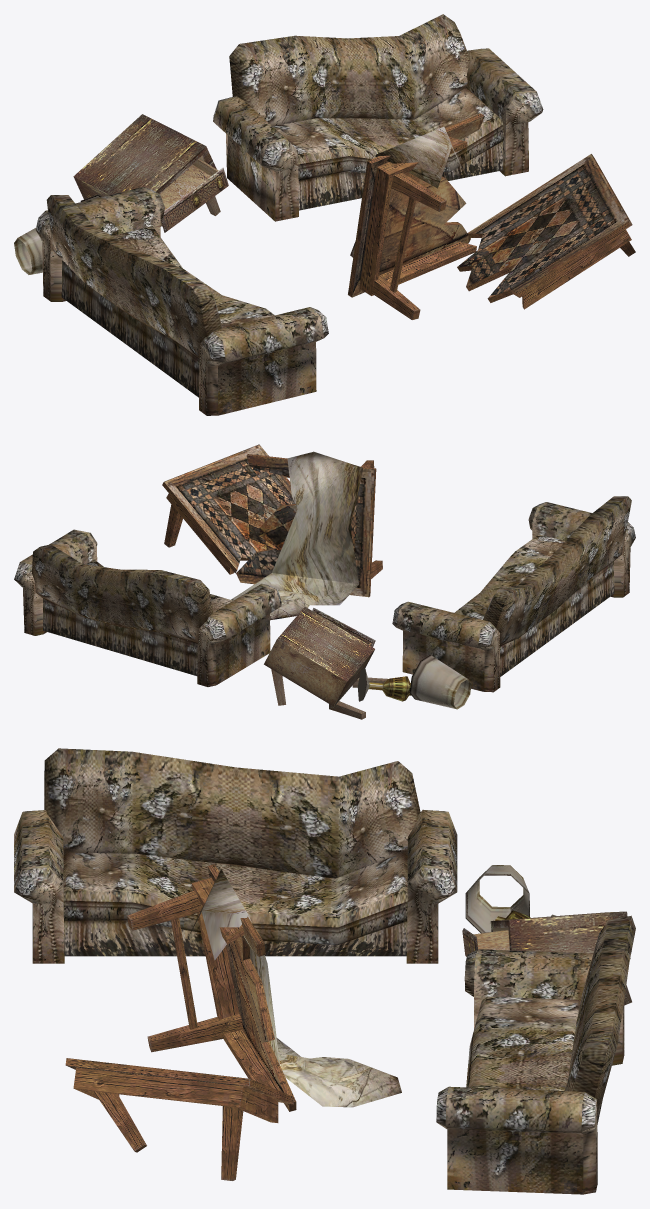
Rendered from rmlivina.glb.
3 views of the same model, one above another, from view 1: azimuth 30°, elevation 25°; view 2: azimuth 150°, elevation 25°; view 3: azimuth 270°, elevation 25° (orthographic). The views are drawn at different scales.
Visible parts, largest first — view 1: _rmlivina; view 2: _rmlivina; view 3: _rmlivina.
Boxes of the visible parts, x1,y1,x2,y2 form: _rmlivina: [14, 14, 635, 415]; _rmlivina: [14, 444, 635, 719]; _rmlivina: [14, 748, 635, 1194].
Size of the model in its own units: 5.29 by 1.45 by 4.53.
Materials: 2 (2 with a texture image).
